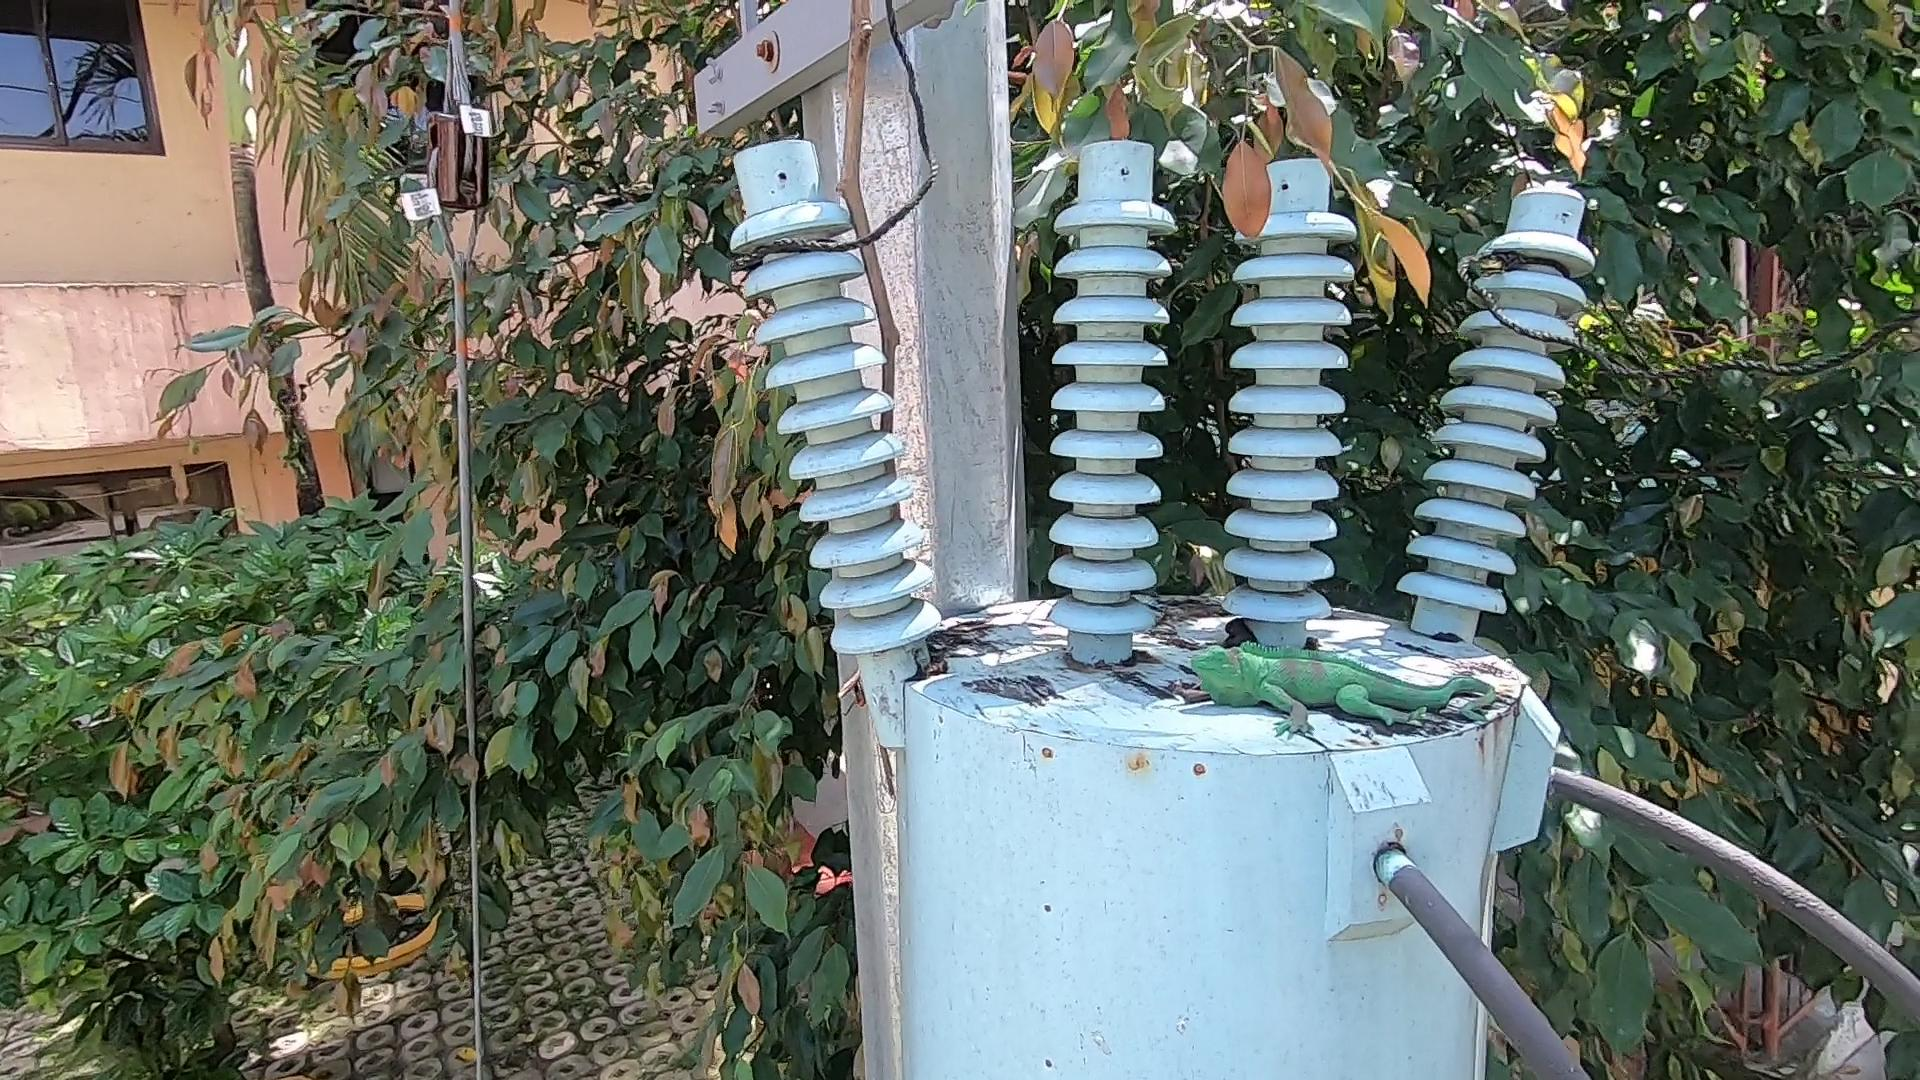branch with leaves: (1226, 91, 1443, 316)
leaf: (1147, 593, 1226, 618), (905, 644, 949, 684), (1208, 628, 1270, 653)
tree branch: (804, 3, 926, 804)
